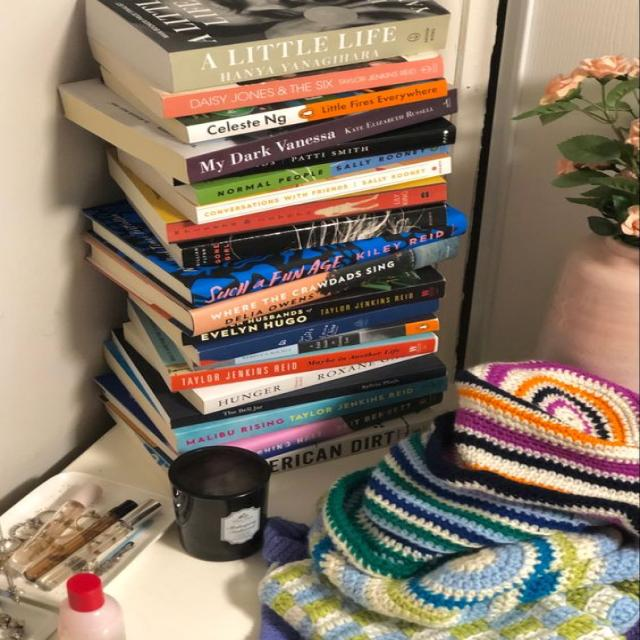book: (95, 239, 458, 334), (86, 0, 448, 92), (186, 90, 455, 183), (190, 217, 466, 305), (178, 375, 446, 452), (129, 54, 443, 118), (152, 80, 446, 143), (180, 202, 449, 270), (182, 277, 443, 346), (197, 155, 453, 225), (172, 364, 446, 428), (165, 183, 448, 243), (199, 296, 437, 367), (225, 393, 439, 471), (168, 337, 439, 393), (199, 144, 449, 203), (202, 353, 421, 414), (202, 319, 438, 370), (234, 123, 454, 177), (268, 411, 433, 474)
candle: (169, 446, 270, 561)
flowers: (515, 60, 638, 245)
